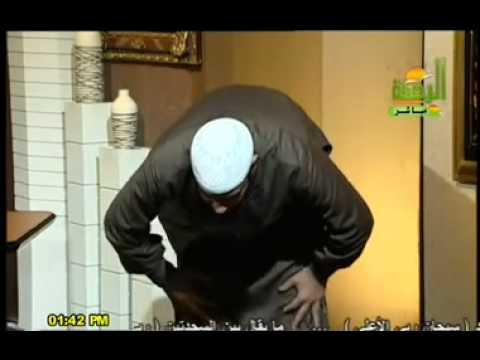ruku: (99, 81, 373, 336)
